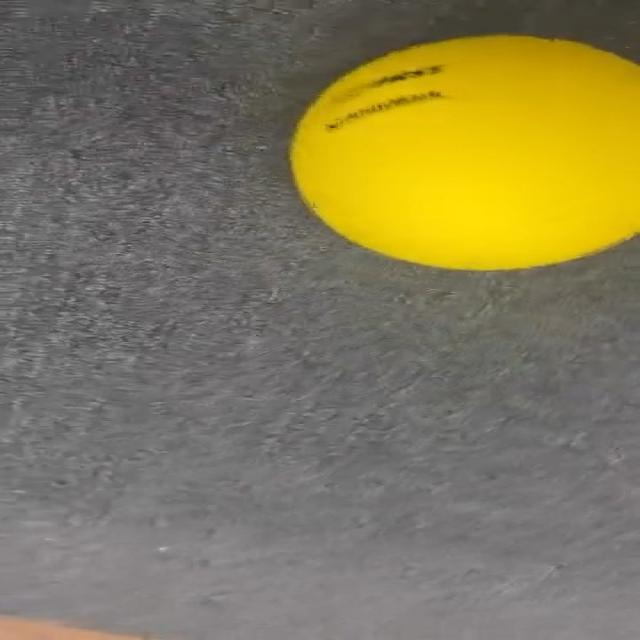Fuels: (290, 35, 638, 265)
